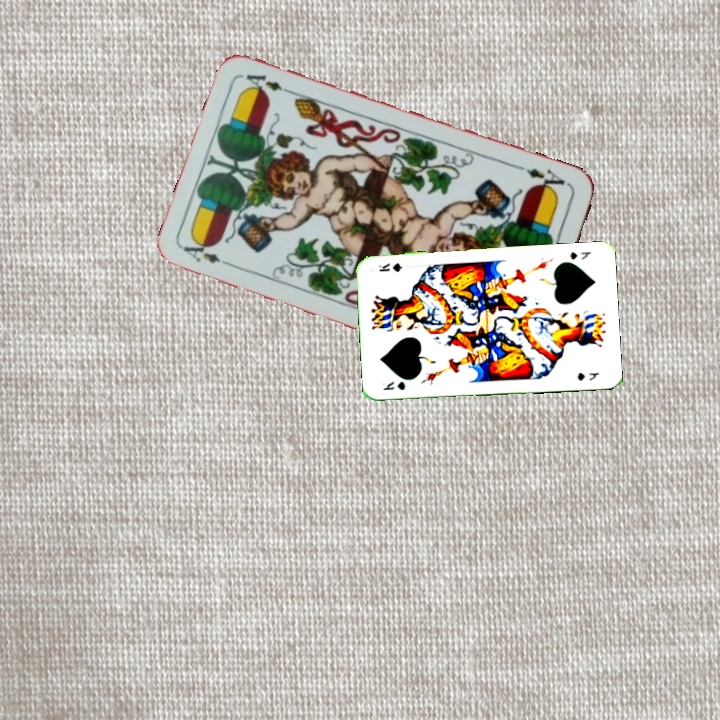EA: (179, 235, 237, 270), (515, 162, 573, 196)
GK: (380, 377, 408, 393), (566, 247, 594, 262)
